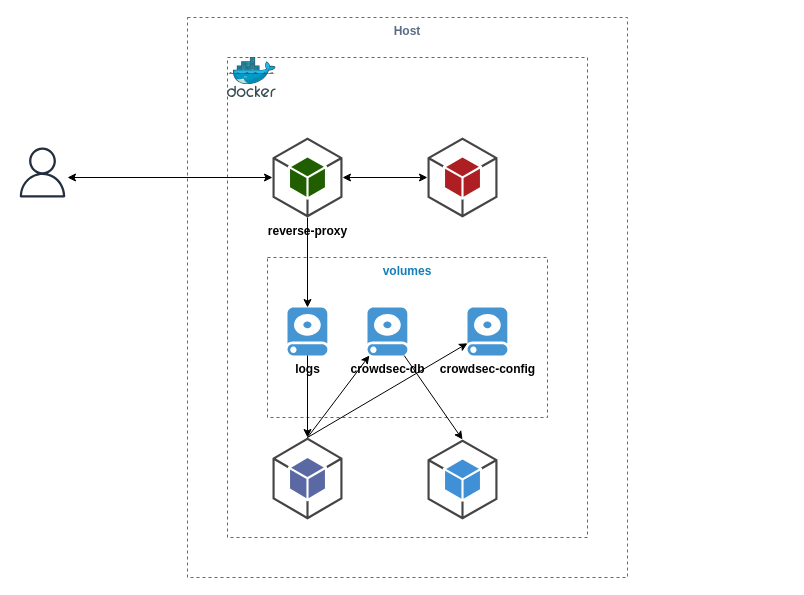
Image size: 804x595. Some labels were removed from this diagram. The centre of each missing label's shape, as x and y in pixels:
app: [462,177]
crowdsec: [307,478]
dashboard: [462,479]
